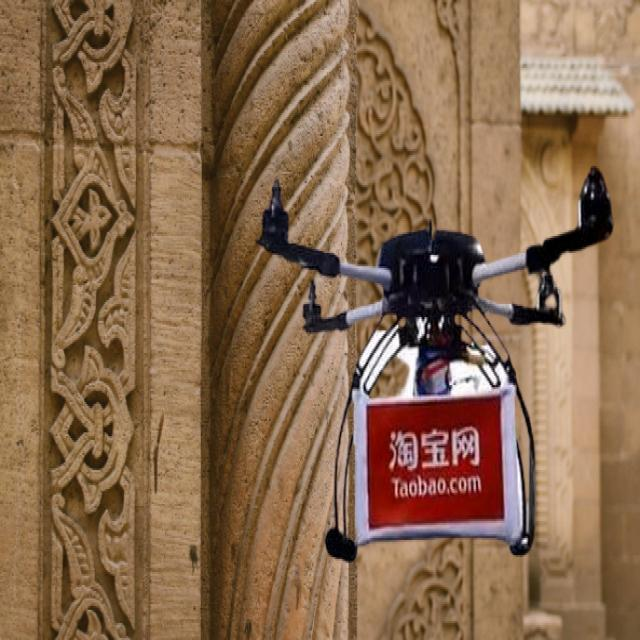drones: (249, 160, 624, 577)
